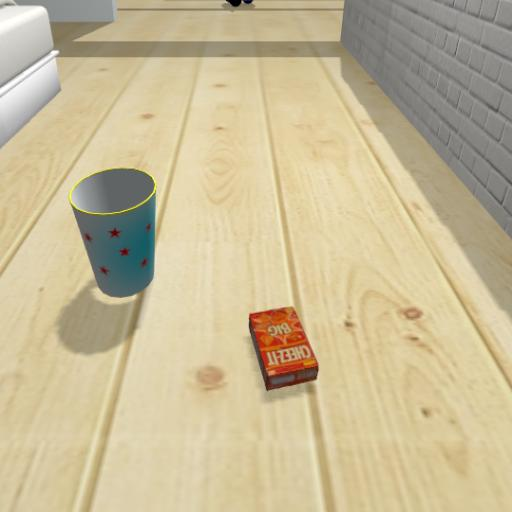BOX_R: (229, 285, 338, 410)
Trash: (59, 154, 189, 324)
